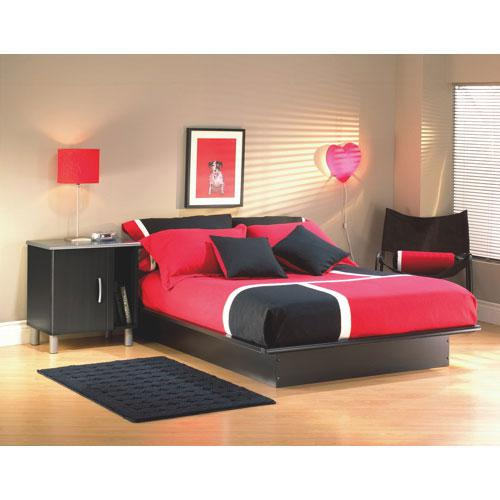bed: (123, 201, 487, 398)
